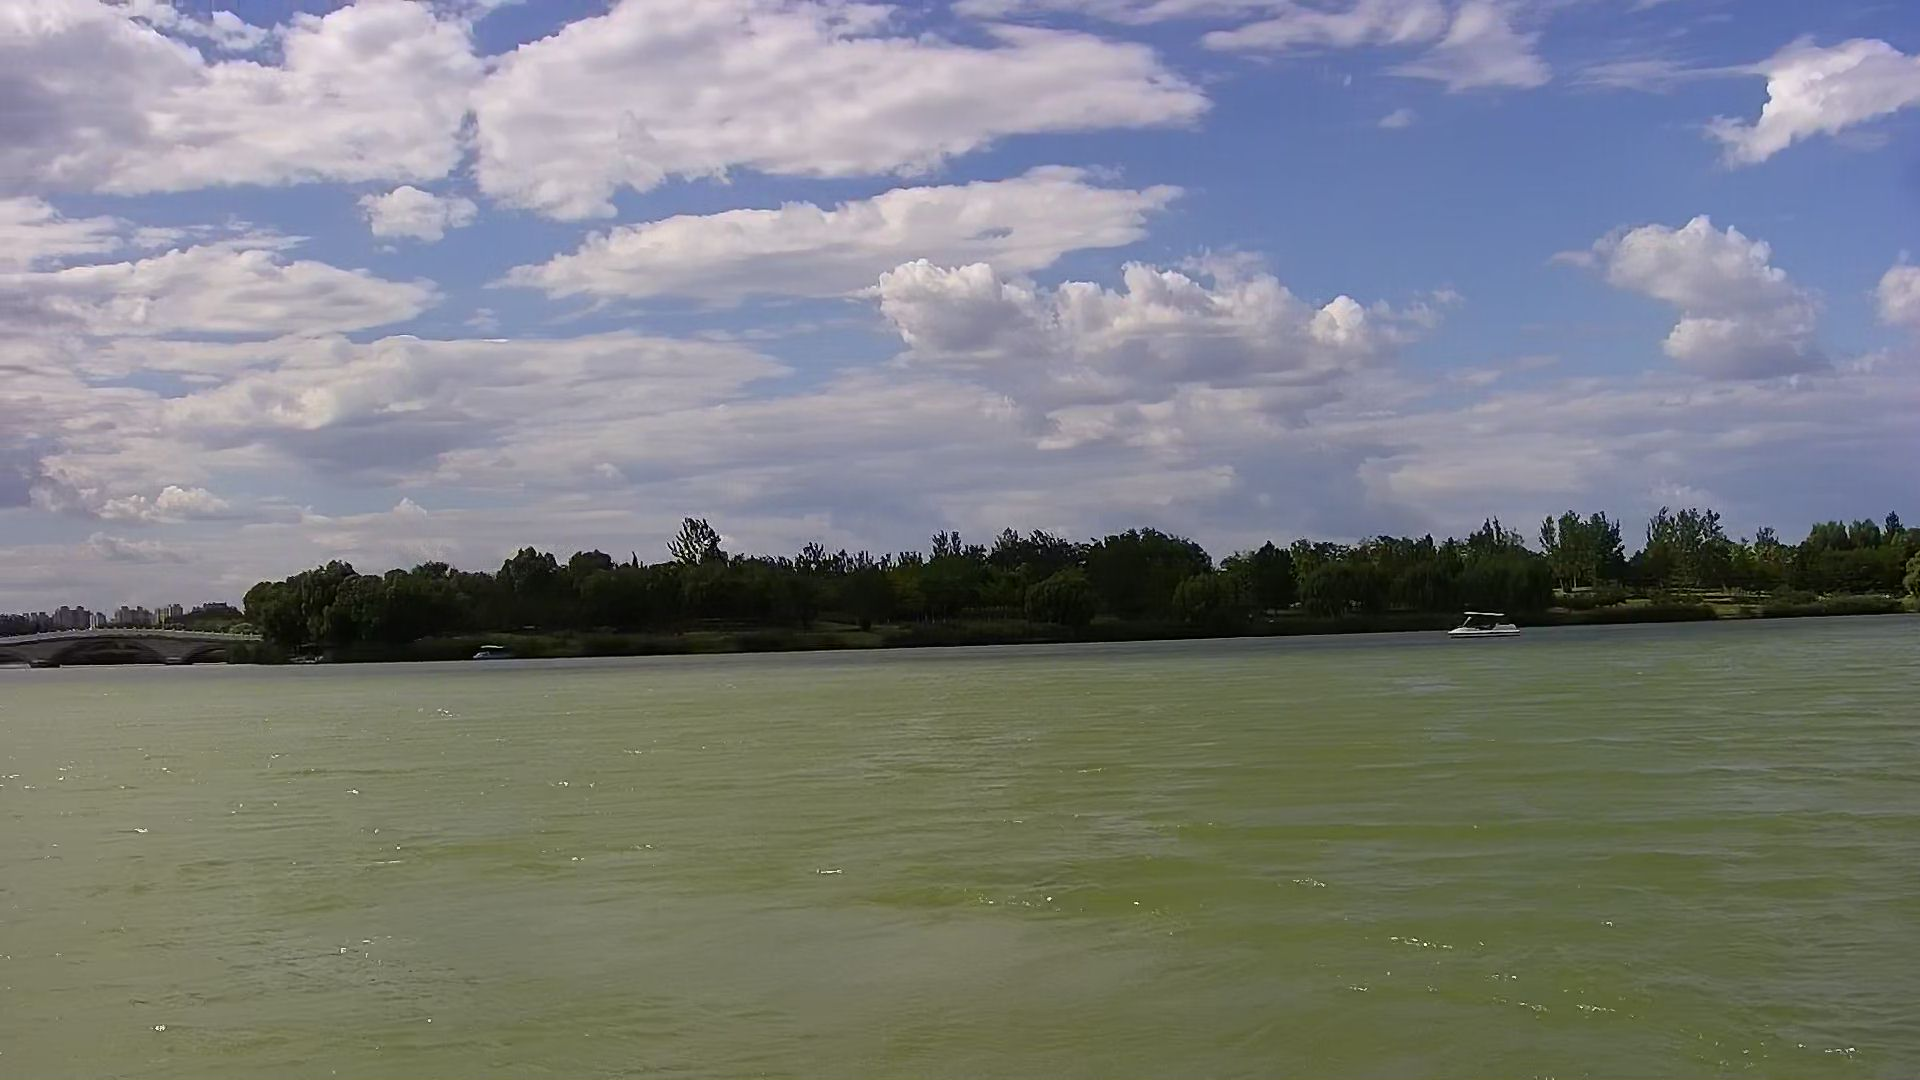boat: (1448, 609, 1523, 640), (467, 642, 520, 665)
bridge: (1, 626, 266, 665)
